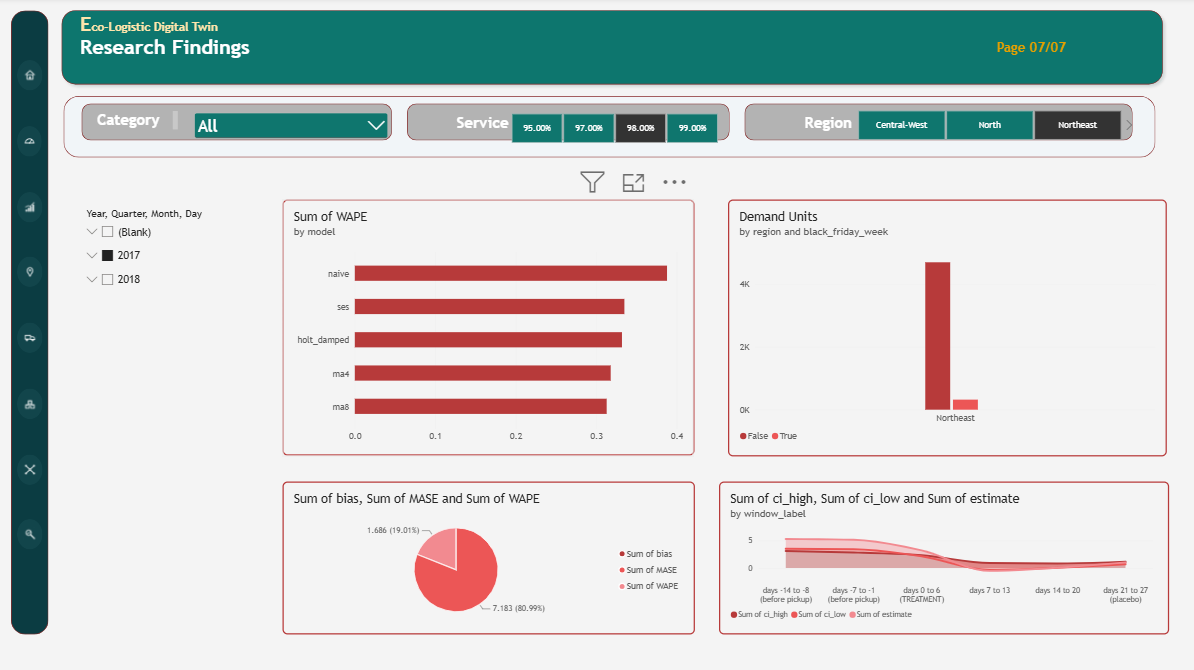

The page's visual inventory and layout, read from the dashboard file:
{"tool":"powerbi","page":{"name":"Research Findings","canvas":[1920,1080],"ordinal":7},"visuals":[{"type":"shape","box":[112.1,157.5,1736.9,97.8],"z":0,"group":"g2"},{"type":"textbox","box":[736.7,185,473.3,53.3],"z":0,"group":"g4"},{"type":"clusteredBarChart","fields":{"Category":["model_summary.model"],"Y":["Sum(model_summary.WAPE)"]},"box":[460,322.5,655,407.5],"z":0},{"type":"shape","box":[139.5,170.5,493.9,58.7],"z":1000,"group":"g2"},{"type":"textbox","box":[1290,185,282.5,140],"z":1000,"group":"g4"},{"type":"stackedAreaChart","fields":{"Category":["rain_lead_lag.window_label"],"Y":["Sum(rain_lead_lag.ci_high)","Sum(rain_lead_lag.ci_low)","Sum(rain_lead_lag.estimate)"]},"box":[1154.8,770.7,715.8,243.4],"z":1000},{"type":"shape","box":[658.2,170.5,513.1,58.7],"z":2000,"group":"g2"},{"type":"pieChart","fields":{"Y":["Sum(model_summary.bias)","Sum(model_summary.MASE)","Sum(model_summary.WAPE)"]},"box":[460.5,770.7,656.1,243.4],"z":2000},{"type":"shape","box":[1196,170.5,617.4,58.7],"z":3000,"group":"g2"},{"type":"clusteredColumnChart","fields":{"Category":["demand_weekly.region"],"Series":["demand_weekly.black_friday_week"],"Y":["_Measures.Demand Units"]},"box":[1168.8,322.9,697.9,408.3],"z":3000},{"type":"group","id":"g1","title":"Group 2","box":[100,11.1,1797.2,136.1],"z":4000},{"type":"slicer","fields":{"Values":["demand_weekly.category"]},"box":[315.2,179.9,318.3,50.3],"z":4000,"group":"g2"},{"type":"group","id":"g2","title":"Group 3","box":[112.1,157.5,1736.9,97.8],"z":5000},{"type":"slicer","fields":{"Values":["demand_weekly.region"]},"box":[1355.1,179.9,458.2,50.3],"z":5000,"group":"g2"},{"type":"group","id":"g3","title":"Group 4","box":[28.6,21.5,59.6,992.5],"z":6000},{"type":"slicer","fields":{"Values":["inventory_policy.service_level"]},"box":[803.6,182.7,367.7,50.3],"z":6000,"group":"g2"},{"type":"shape","box":[100,11.1,1769.4,136.1],"z":7000,"group":"g1"},{"type":"textbox","box":[163.7,180.7,129.6,36],"z":7000,"group":"g2"},{"type":"slicer","fields":{"Values":["dim_date.date_id.Variation.Date Hierarchy.Year","dim_date.date_id.Variation.Date Hierarchy.Quarter","dim_date.date_id.Variation.Date Hierarchy.Month","dim_date.date_id.Variation.Date Hierarchy.Day"]},"box":[140.8,334,269.6,190.9],"z":7000},{"type":"textbox","box":[138.9,22.2,1758.3,113.9],"z":8000,"group":"g1"},{"type":"group","id":"g4","title":"Group 5","box":[736.7,185,835.8,140],"z":8000},{"type":"shape","box":[28.6,21.5,59.6,992.5],"z":14000,"group":"g3"},{"type":"textbox","box":[1519.4,66.7,263.9,55.6],"z":16000,"group":"g1"},{"type":"actionButton","box":[37.1,101.2,40.7,48.4],"z":17000,"group":"g5"},{"type":"actionButton","box":[37.1,832.3,40.7,48.4],"z":21000,"group":"g5"},{"type":"actionButton","box":[37.1,727.9,40.7,48.4],"z":22000,"group":"g5"},{"type":"actionButton","box":[37,623.2,41,48.7],"z":23000,"group":"g5"},{"type":"actionButton","box":[37.1,518.9,40.7,48.4],"z":24000,"group":"g5"},{"type":"actionButton","box":[37.1,310.2,40.7,48.4],"z":25000,"group":"g5"},{"type":"actionButton","box":[37.1,414.6,40.7,48.4],"z":26000,"group":"g5"},{"type":"actionButton","box":[37.7,205.5,39.5,48.7],"z":27000,"group":"g5"},{"type":"group","id":"g5","title":"Group 1","box":[37,101.2,41,779.5],"z":27001,"group":"g3"}]}

Visuals, with their boxes on the page's 1920x1080 design canvas (x1, y1, x2, y2). These are canvas units, not pixel positions in the 1194x670 screenshot, which may show the page scaled, cropped or inside an application window:
shape: <bbox>112, 158, 1849, 255</bbox>
textbox: <bbox>737, 185, 1210, 238</bbox>
clusteredBarChart - model_summary.model x Sum(model_summary.WAPE): <bbox>460, 322, 1115, 730</bbox>
shape: <bbox>140, 170, 633, 229</bbox>
textbox: <bbox>1290, 185, 1572, 325</bbox>
stackedAreaChart - rain_lead_lag.window_label x Sum(rain_lead_lag.ci_high): <bbox>1155, 771, 1871, 1014</bbox>
shape: <bbox>658, 170, 1171, 229</bbox>
pieChart - Sum(model_summary.bias) x Sum(model_summary.MASE): <bbox>460, 771, 1117, 1014</bbox>
shape: <bbox>1196, 170, 1813, 229</bbox>
clusteredColumnChart - demand_weekly.region x demand_weekly.black_friday_week: <bbox>1169, 323, 1867, 731</bbox>
"Group 2" group: <bbox>100, 11, 1897, 147</bbox>
slicer - demand_weekly.category: <bbox>315, 180, 634, 230</bbox>
"Group 3" group: <bbox>112, 158, 1849, 255</bbox>
slicer - demand_weekly.region: <bbox>1355, 180, 1813, 230</bbox>
"Group 4" group: <bbox>29, 22, 88, 1014</bbox>
slicer - inventory_policy.service_level: <bbox>804, 183, 1171, 233</bbox>
shape: <bbox>100, 11, 1869, 147</bbox>
textbox: <bbox>164, 181, 293, 217</bbox>
slicer - dim_date.date_id.Variation.Date Hierarchy.Year x dim_date.date_id.Variation.Date Hierarchy.Quarter: <bbox>141, 334, 410, 525</bbox>
textbox: <bbox>139, 22, 1897, 136</bbox>
"Group 5" group: <bbox>737, 185, 1572, 325</bbox>
shape: <bbox>29, 22, 88, 1014</bbox>
textbox: <bbox>1519, 67, 1783, 122</bbox>
actionButton: <bbox>37, 101, 78, 150</bbox>
actionButton: <bbox>37, 832, 78, 881</bbox>
actionButton: <bbox>37, 728, 78, 776</bbox>
actionButton: <bbox>37, 623, 78, 672</bbox>
actionButton: <bbox>37, 519, 78, 567</bbox>
actionButton: <bbox>37, 310, 78, 359</bbox>
actionButton: <bbox>37, 415, 78, 463</bbox>
actionButton: <bbox>38, 206, 77, 254</bbox>
"Group 1" group: <bbox>37, 101, 78, 881</bbox>
